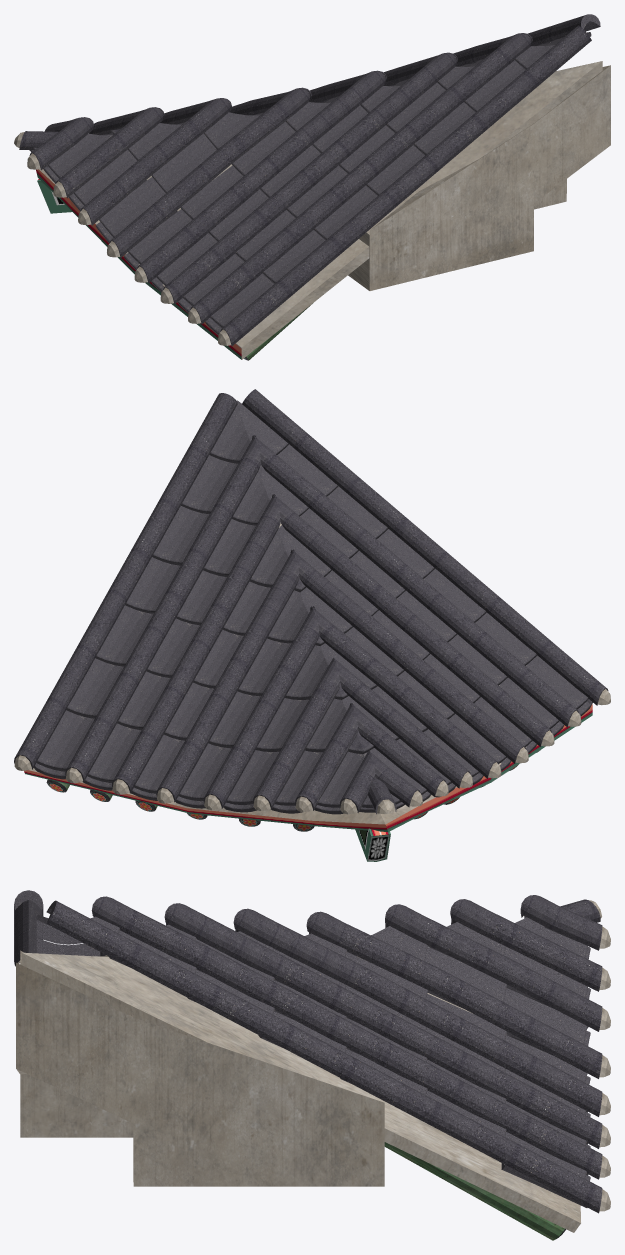
File: SM_R_RoofCorner_17.fbx
The picture shows the model from 3 angles, top to bottom: view 1: azimuth 30°, elevation 25°; view 2: azimuth 150°, elevation 25°; view 3: azimuth 270°, elevation 25°; orthographic projection. The views are drawn at different scales.
Parts seen in each view (by area): view 1: SM_R_RoofCorner_17; view 2: SM_R_RoofCorner_17; view 3: SM_R_RoofCorner_17.
Part boxes in pixels (left/top/right/bottom): SM_R_RoofCorner_17: left=14, top=14, right=610, bottom=360; SM_R_RoofCorner_17: left=14, top=389, right=610, bottom=861; SM_R_RoofCorner_17: left=14, top=890, right=610, bottom=1240.
Size of the model in its own units: 326 by 326 by 211.
4 materials, 4 textured.
